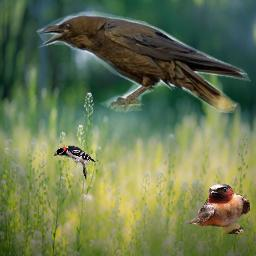Crow: (36, 10, 251, 113)
Swallow: (189, 184, 250, 234)
Woodpecker: (54, 145, 97, 180)
